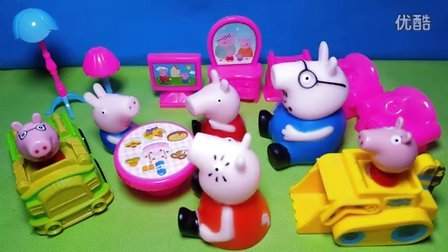Peppa: (191, 130, 273, 245), (184, 74, 250, 137)
